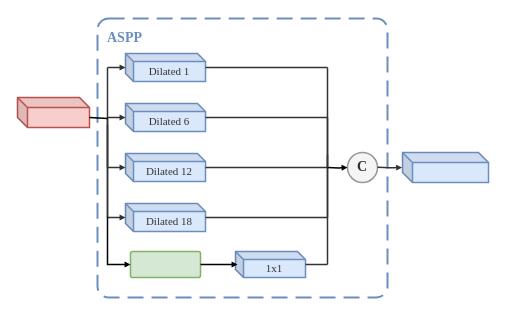
Some shapes in this 507 by 315 pixel diagram are drawn without their labels. The shapes that lost their labels are listed below. From the top down, each one's centre as x and y in pixels, then its label:
(53,112): Input
(445,167): Conv 1x1
(165,264): GAP
